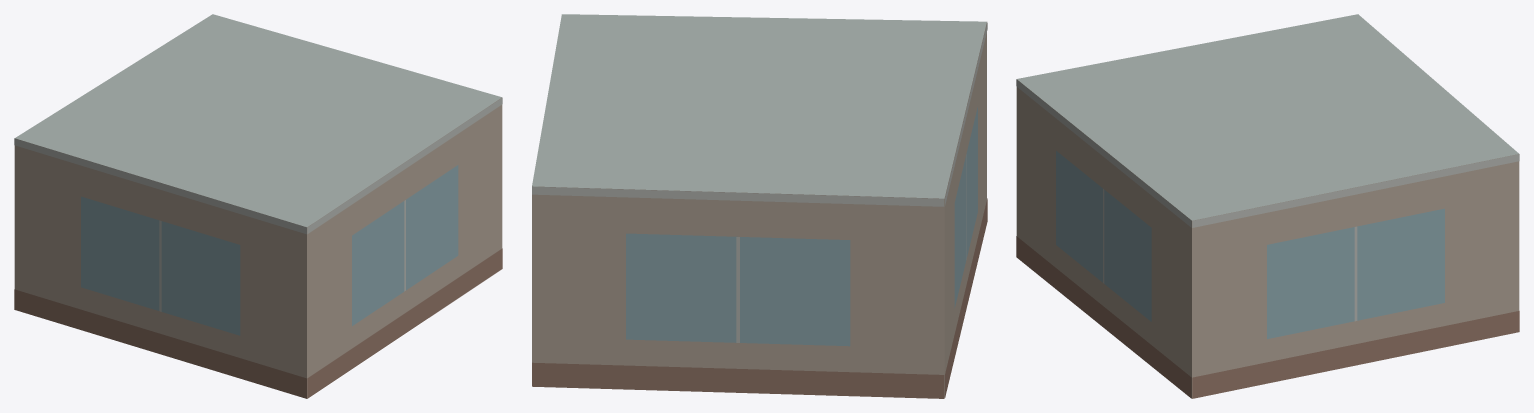
The model's file is survey-upis-33043970.glb.
3 views of the same model, side by side, from view 1: azimuth 30°, elevation 25°; view 2: azimuth 150°, elevation 25°; view 3: azimuth 270°, elevation 25° (orthographic). The views are drawn at different scales.
Parts seen in each view (by area): view 1: survey-upis-33043970.tmp; view 2: survey-upis-33043970.tmp; view 3: survey-upis-33043970.tmp.
Boxes of the visible parts, <box> form: survey-upis-33043970.tmp: <box>14,14,502,398</box>; survey-upis-33043970.tmp: <box>532,14,987,398</box>; survey-upis-33043970.tmp: <box>1016,14,1519,398</box>.
Size of the model in its own units: 7.6 by 3.05 by 7.82.
